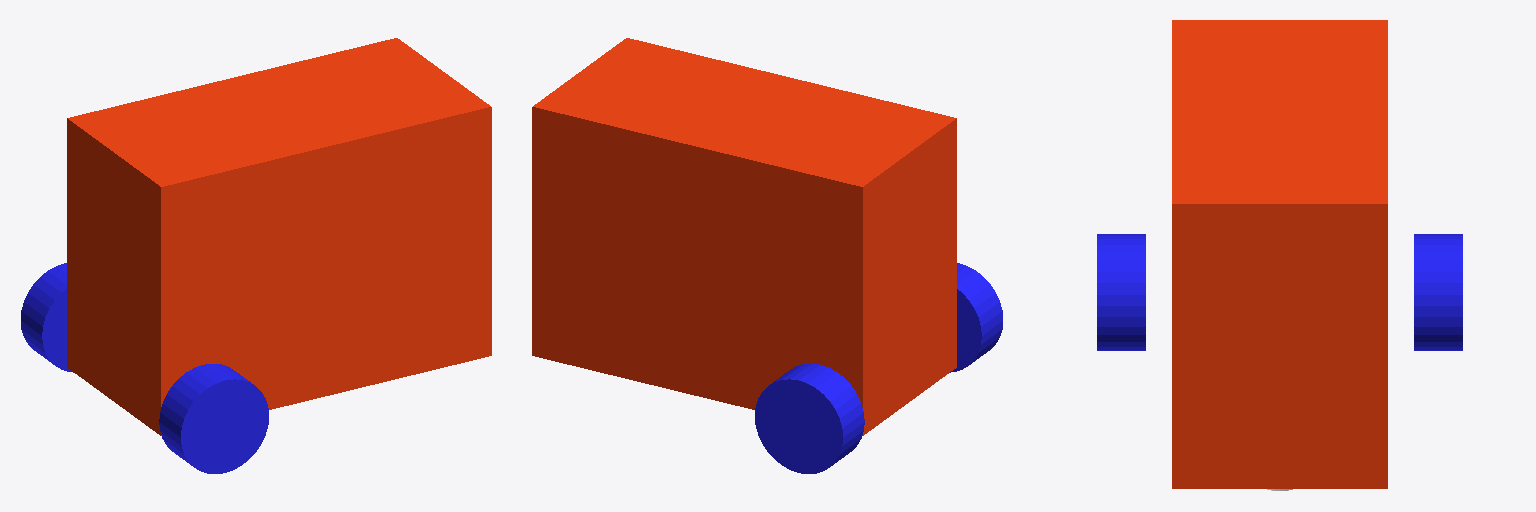
The robot description file, URDF, robot "robot":
<?xml version="1.0" ?>
<!-- =================================================================================== -->
<!-- |    This document was autogenerated by xacro from [local-path]/ros2_ws/src/test_bot/description/robot.urdf.xacro | -->
<!-- |    EDITING THIS FILE BY HAND IS NOT RECOMMENDED                                 | -->
<!-- =================================================================================== -->
<robot name="robot">
  <!-- Specify some standard inertial calculations https://en.wikipedia.org/wiki/List_of_moments_of_inertia -->
  <!-- These make use of xacro's mathematical functionality -->
  <material name="white">
    <color rgba="1 1 1 1"/>
  </material>
  <material name="orange">
    <color rgba="1 0.3 0.1 1"/>
  </material>
  <material name="blue">
    <color rgba="0.2 0.2 1 1"/>
  </material>
  <material name="black">
    <color rgba="0 0 0 1"/>
  </material>
  <material name="red">
    <color rgba="1 0 0 1"/>
  </material>
  <!-- BASE LINK -->
  <link name="base_link">

    </link>
  <!-- BASE FOOTPRINT -->
  <joint name="base_footprint_joint" type="fixed">
    <parent link="base_link"/>
    <child link="base_footprint"/>
    <origin rpy="0.0 0.0 0.0" xyz="0.0 0.0 0.0"/>
  </joint>
  <link name="base_footprint">     
    </link>
  <!-- CHASSIS LINK -->
  <joint name="chassis_joint" type="fixed">
    <parent link="base_link"/>
    <child link="chassis"/>
    <origin xyz="-0.045 0 -0.037"/>
  </joint>
  <link name="chassis">
    <visual>
      <origin xyz="0.2425 0 0.175"/>
      <geometry>
        <box size="0.485 0.24 0.35"/>
      </geometry>
      <material name="orange"/>
    </visual>
    <collision>
      <origin xyz="0.2425 0 0.175"/>
      <geometry>
        <box size="0.485 0.24 0.35"/>
      </geometry>
    </collision>
    <inertial>
      <origin rpy="0 0 0" xyz="0.2425 0 0.175"/>
      <mass value="0.5"/>
      <inertia ixx="0.007504166666666666" ixy="0.0" ixz="0.0" iyy="0.014905208333333331" iyz="0.0" izz="0.012201041666666666"/>
    </inertial>
  </link>
  <gazebo reference="chassis">
    <material>Gazebo/Orange</material>
  </gazebo>
  <!-- LEFT WHEEL LINK -->
  <joint name="left_wheel_joint" type="continuous">
    <parent link="base_link"/>
    <child link="left_wheel"/>
    <origin rpy="-1.5707963267948966 0 0" xyz="0 0.1765 0"/>
    <axis xyz="0 0 1"/>
  </joint>
  <link name="left_wheel">
    <visual>
      <geometry>
        <cylinder length="0.055" radius="0.065"/>
      </geometry>
      <material name="blue"/>
    </visual>
    <collision>
      <geometry>
        <sphere radius="0.065"/>
      </geometry>
    </collision>
    <inertial>
      <origin rpy="0 0 0" xyz="0 0 0"/>
      <mass value="0.05"/>
      <inertia ixx="6.541666666666667e-05" ixy="0.0" ixz="0.0" iyy="6.541666666666667e-05" iyz="0.0" izz="0.00010562500000000002"/>
    </inertial>
  </link>
  <gazebo reference="left_wheel">
    <material>Gazebo/Blue</material>
  </gazebo>
  <!-- RIGHT WHEEL LINK -->
  <joint name="right_wheel_joint" type="continuous">
    <parent link="base_link"/>
    <child link="right_wheel"/>
    <origin rpy="1.5707963267948966 0 0" xyz="0 -0.1765 0"/>
    <axis xyz="0 0 -1"/>
  </joint>
  <link name="right_wheel">
    <visual>
      <geometry>
        <cylinder length="0.055" radius="0.065"/>
      </geometry>
      <material name="blue"/>
    </visual>
    <collision>
      <geometry>
        <sphere radius="0.065"/>
      </geometry>
    </collision>
    <inertial>
      <origin rpy="0 0 0" xyz="0 0 0"/>
      <mass value="0.05"/>
      <inertia ixx="6.541666666666667e-05" ixy="0.0" ixz="0.0" iyy="6.541666666666667e-05" iyz="0.0" izz="0.00010562500000000002"/>
    </inertial>
  </link>
  <gazebo reference="right_wheel">
    <material>Gazebo/Blue</material>
  </gazebo>
  <!-- CASTER WHEEL LINK -->
  <joint name="caster_wheel_joint" type="fixed">
    <parent link="chassis"/>
    <child link="caster_wheel"/>
    <origin xyz="0.42 0 0.022"/>
  </joint>
  <link name="caster_wheel">
    <visual>
      <geometry>
        <sphere radius="0.05"/>
      </geometry>
      <material name="white"/>
    </visual>
    <collision>
      <geometry>
        <sphere radius="0.05"/>
      </geometry>
    </collision>
    <inertial>
      <origin rpy="0 0 0" xyz="0 0 0"/>
      <mass value="0.01"/>
      <inertia ixx="1.0000000000000003e-05" ixy="0.0" ixz="0.0" iyy="1.0000000000000003e-05" iyz="0.0" izz="1.0000000000000003e-05"/>
    </inertial>
  </link>
  <gazebo reference="caster_wheel">
    <material>Gazebo/White</material>
    <mu1 value="0.001"/>
    <mu2 value="0.001"/>
  </gazebo>
  <ros2_control name="GazeboSystem" type="system">
    <hardware>
      <plugin>gazebo_ros2_control/GazeboSystem</plugin>
    </hardware>
    <joint name="left_wheel_joint">
      <command_interface name="velocity">
        <param name="min">-10</param>
        <param name="max">10</param>
      </command_interface>
      <state_interface name="velocity"/>
      <state_interface name="position"/>
    </joint>
    <joint name="right_wheel_joint">
      <command_interface name="velocity">
        <param name="min">-10</param>
        <param name="max">10</param>
      </command_interface>
      <state_interface name="velocity"/>
      <state_interface name="position"/>
    </joint>
  </ros2_control>
  <gazebo>
    <plugin filename="libgazebo_ros2_control.so" name="gazebo_ros2_control">
      <parameters>[local-path]/ros2_ws/install/test_bot/share/test_bot/config/my_controllers.yaml</parameters>
    </plugin>
  </gazebo>
  <joint name="laser_joint" type="fixed">
    <parent link="chassis"/>
    <child link="laser_frame"/>
    <origin rpy="0 0 0" xyz="0.122 0 0.212"/>
  </joint>
  <link name="laser_frame">
    <visual>
      <geometry>
        <cylinder length="0.04" radius="0.05"/>
      </geometry>
      <material name="black"/>
    </visual>
    <visual>
      <origin xyz="0 0 -0.05"/>
      <geometry>
        <cylinder length="0.1" radius="0.01"/>
      </geometry>
      <material name="black"/>
    </visual>
    <collision>
      <geometry>
        <cylinder length="0.04" radius="0.05"/>
      </geometry>
    </collision>
    <inertial>
      <origin rpy="0 0 0" xyz="0 0 0"/>
      <mass value="0.1"/>
      <inertia ixx="7.583333333333335e-05" ixy="0.0" ixz="0.0" iyy="7.583333333333335e-05" iyz="0.0" izz="0.00012500000000000003"/>
    </inertial>
  </link>
  <gazebo reference="laser_frame">
    <material>Gazebo/Black</material>
    <sensor name="laser" type="ray">
      <pose> 0 0 0 0 0 0 </pose>
      <visualize>false</visualize>
      <update_rate>10</update_rate>
      <ray>
        <scan>
          <horizontal>
            <samples>360</samples>
            <min_angle>-3.14</min_angle>
            <max_angle>3.14</max_angle>
          </horizontal>
        </scan>
        <range>
          <min>0.3</min>
          <max>12</max>
        </range>
      </ray>
      <plugin filename="libgazebo_ros_ray_sensor.so" name="laser_controller">
        <ros>
          <argument>~/out:=scan</argument>
        </ros>
        <output_type>sensor_msgs/LaserScan</output_type>
        <frame_name>laser_frame</frame_name>
      </plugin>
    </sensor>
  </gazebo>
  <joint name="camera_joint" type="fixed">
    <parent link="chassis"/>
    <child link="camera_link"/>
    <origin rpy="0 0.18 0" xyz="0.276 0 0.181"/>
  </joint>
  <link name="camera_link">
    <visual>
      <geometry>
        <box size="0.010 0.03 0.03"/>
      </geometry>
      <material name="black"/>
    </visual>
    <visual>
      <origin xyz="0 0 -0.05"/>
      <geometry>
        <cylinder length="0.1" radius="0.002"/>
      </geometry>
      <material name="black"/>
    </visual>
  </link>
  <joint name="camera_optical_joint" type="fixed">
    <parent link="camera_link"/>
    <child link="camera_link_optical"/>
    <origin rpy="-1.5707963267948966 0 -1.5707963267948966" xyz="0 0 0"/>
  </joint>
  <link name="camera_link_optical"/>
  <gazebo reference="camera_link">
    <material>Gazebo/Black</material>
    <sensor name="camera" type="camera">
      <pose> 0 0 0 0 0 0 </pose>
      <visualize>true</visualize>
      <update_rate>10</update_rate>
      <camera>
        <horizontal_fov>1.089</horizontal_fov>
        <image>
          <format>R8G8B8</format>
          <width>640</width>
          <height>480</height>
        </image>
        <clip>
          <near>0.05</near>
          <far>8.0</far>
        </clip>
      </camera>
      <plugin filename="libgazebo_ros_camera.so" name="camera_controller">
        <frame_name>camera_link_optical</frame_name>
      </plugin>
    </sensor>
  </gazebo>
  <!-- <xacro:include filename="depth_camera.xacro"/> -->
</robot>

--- Render facts (derived) ---
Views: 3 orthographic renders of the robot side by side, from view 1: azimuth 30°, elevation 25°; view 2: azimuth 150°, elevation 25°; view 3: azimuth 270°, elevation 25°.
Model robot with 9 links and 8 joints (2 continuous, 6 fixed), rooted at base_link, posed all joints at 0.
Visible links, largest first — view 1: chassis, right_wheel, left_wheel; view 2: chassis, left_wheel, right_wheel; view 3: chassis, left_wheel, right_wheel.
Boxes of the visible links, x1,y1,x2,y2 form: chassis: (67, 38, 491, 435); right_wheel: (159, 364, 268, 473); left_wheel: (21, 263, 73, 372); chassis: (532, 38, 956, 435); left_wheel: (755, 364, 864, 473); right_wheel: (950, 263, 1002, 372); chassis: (1172, 20, 1387, 488); left_wheel: (1414, 234, 1462, 350); right_wheel: (1097, 234, 1145, 350).
Size in the robot's own frame: 0.505 by 0.408 by 0.378 metres.
Geometry: primitives only (box / cylinder / sphere), no mesh files.
